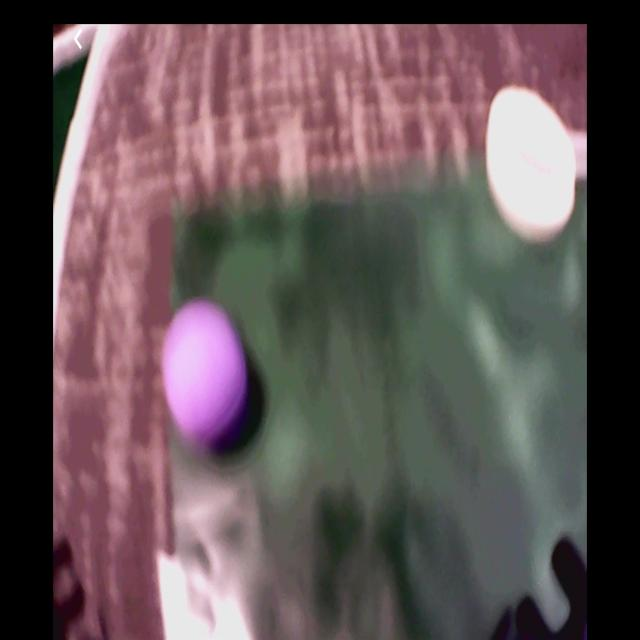ball: (167, 303, 250, 443)
